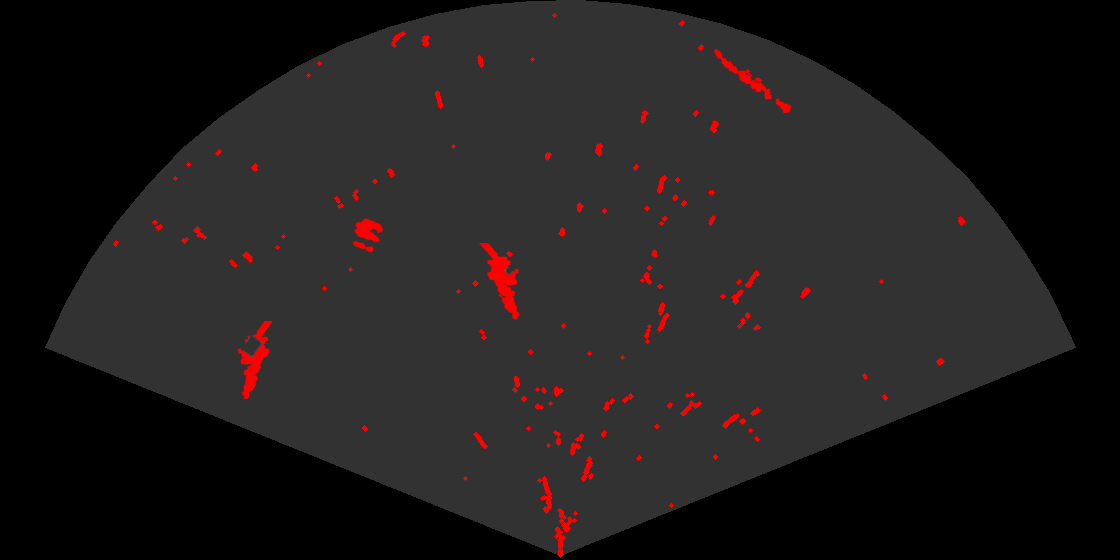ball: (351, 217, 385, 254)
chain: (712, 48, 793, 115)
frogman: (478, 243, 521, 321), (236, 321, 274, 401)
